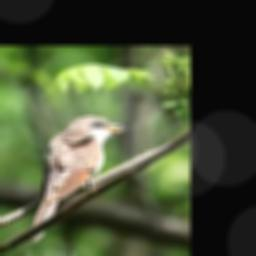Cuckoo: (29, 116, 126, 244)
